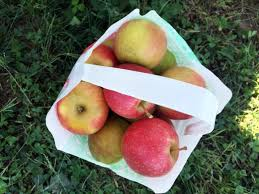apple: (121, 119, 185, 174), (103, 64, 156, 118), (155, 69, 209, 116), (115, 23, 172, 65), (59, 85, 106, 129), (90, 120, 133, 161)
